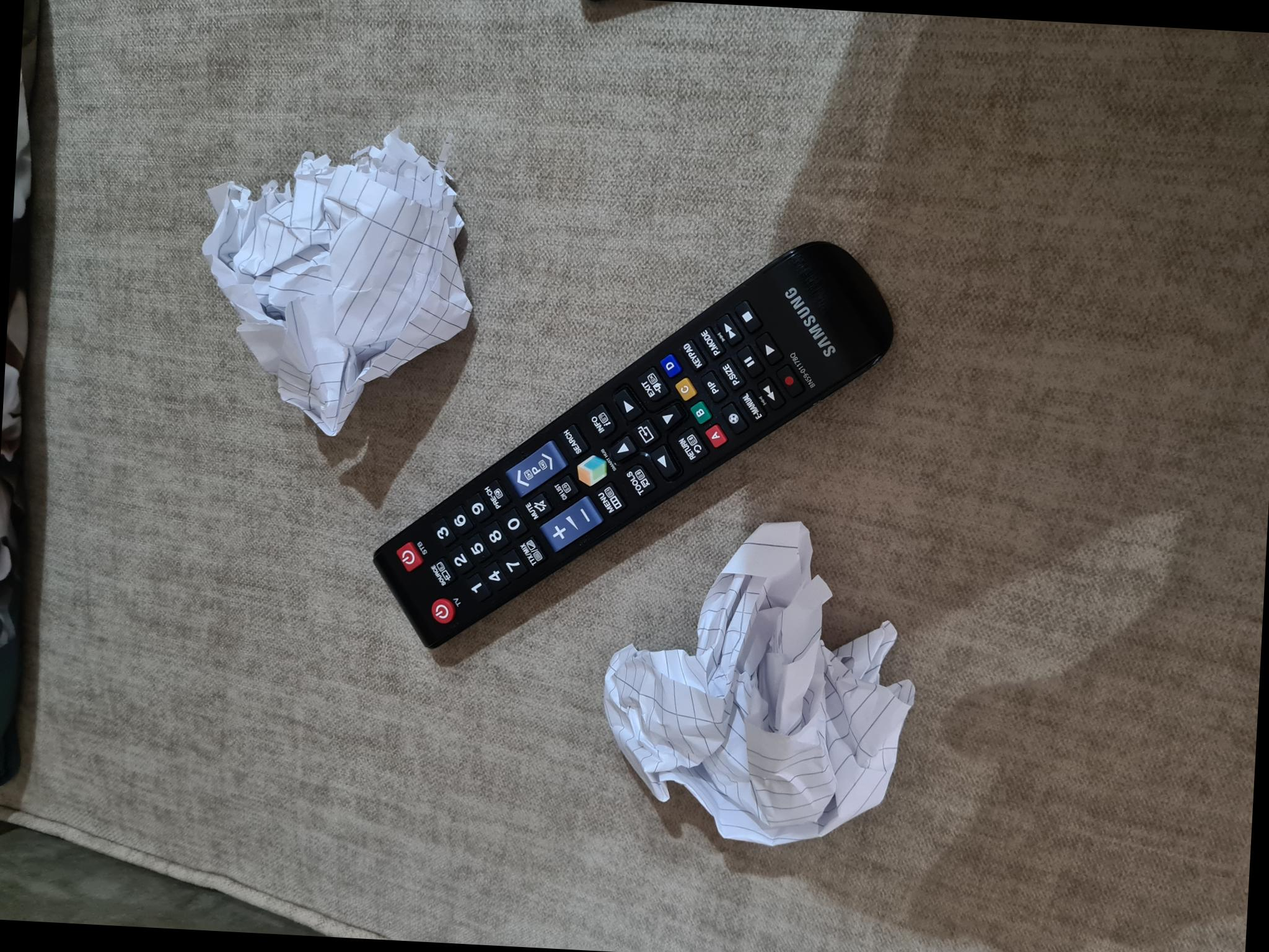Kertas: (99, 596, 422, 906), (99, 596, 422, 905), (508, 194, 813, 463)
